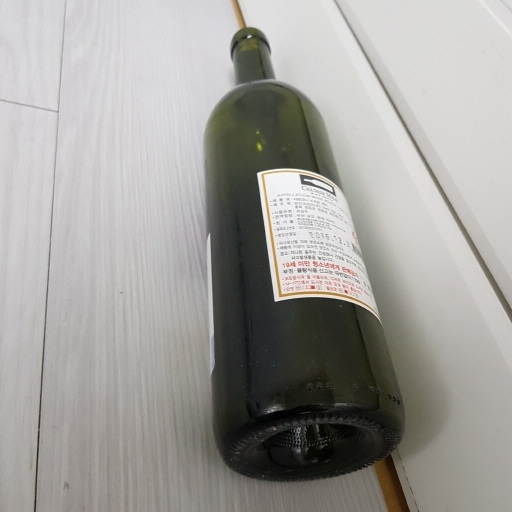Glass_2: (191, 28, 406, 485)
